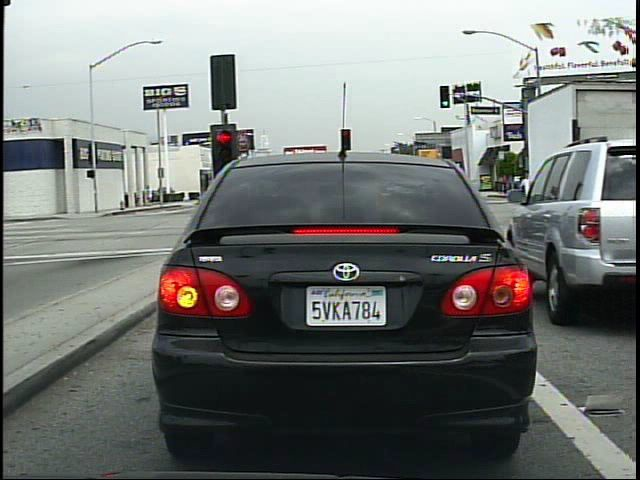person: (146, 181, 156, 209), (522, 168, 526, 200)
